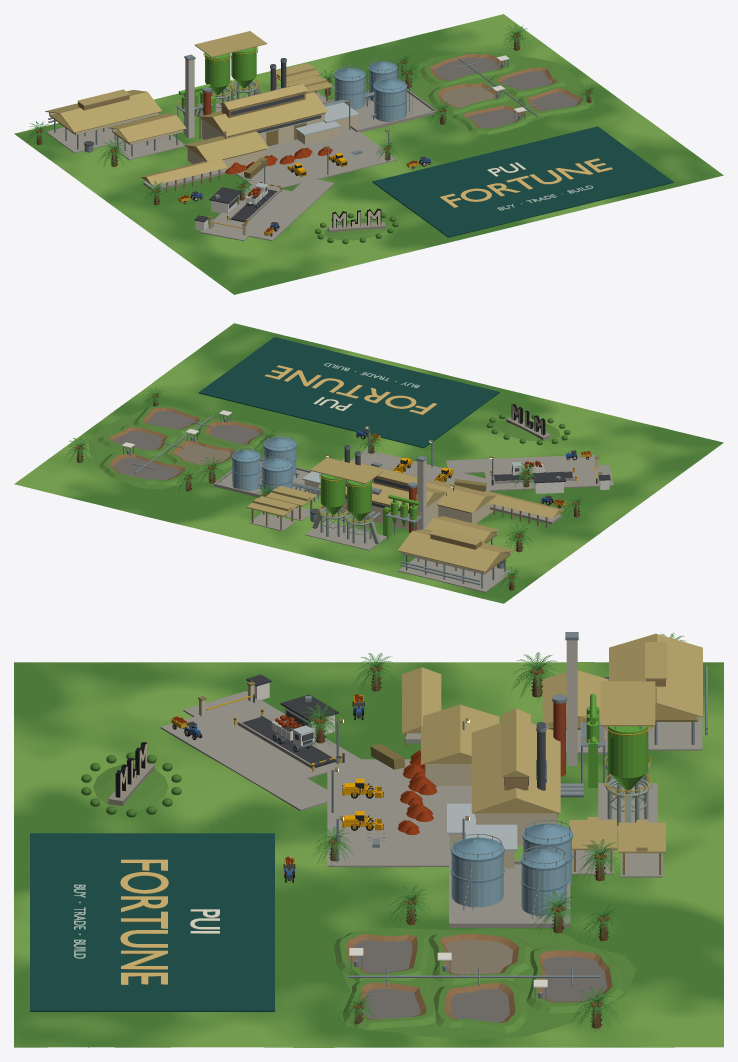
Rendered from palm_oil_mill.glb.
The picture shows the model from 3 angles, top to bottom: view 1: azimuth 30°, elevation 25°; view 2: azimuth 150°, elevation 25°; view 3: azimuth 270°, elevation 25°; orthographic projection. The views are drawn at different scales.
Visible parts, largest first — view 1: PalmOilMill, GrassTerrain, OilPalm; view 2: PalmOilMill, GrassTerrain; view 3: PalmOilMill, GrassTerrain, OilPalm.007, OilPalm, OilPalm.010, OilPalm.002, OilPalm.003, OilPalm.006, OilPalm.005, OilPalm.008, OilPalm.004.
Part boxes in pixels (box(x1,y1,x2,y2)): PalmOilMill: box(45, 31, 673, 244); GrassTerrain: box(14, 14, 723, 294); OilPalm: box(98, 139, 131, 167); PalmOilMill: box(88, 337, 613, 592); GrassTerrain: box(14, 323, 723, 603); PalmOilMill: box(30, 632, 707, 1039); GrassTerrain: box(14, 662, 723, 1047); OilPalm.007: box(535, 891, 583, 937); OilPalm: box(510, 652, 560, 701); OilPalm.010: box(572, 987, 621, 1031); OilPalm.002: box(576, 839, 623, 883); OilPalm.003: box(388, 885, 432, 927); OilPalm.006: box(352, 653, 399, 694); OilPalm.005: box(298, 703, 343, 747); OilPalm.008: box(580, 903, 626, 944); OilPalm.004: box(313, 826, 355, 865).
Bounding box in the file's own units: 131 × 22.58 × 101.
